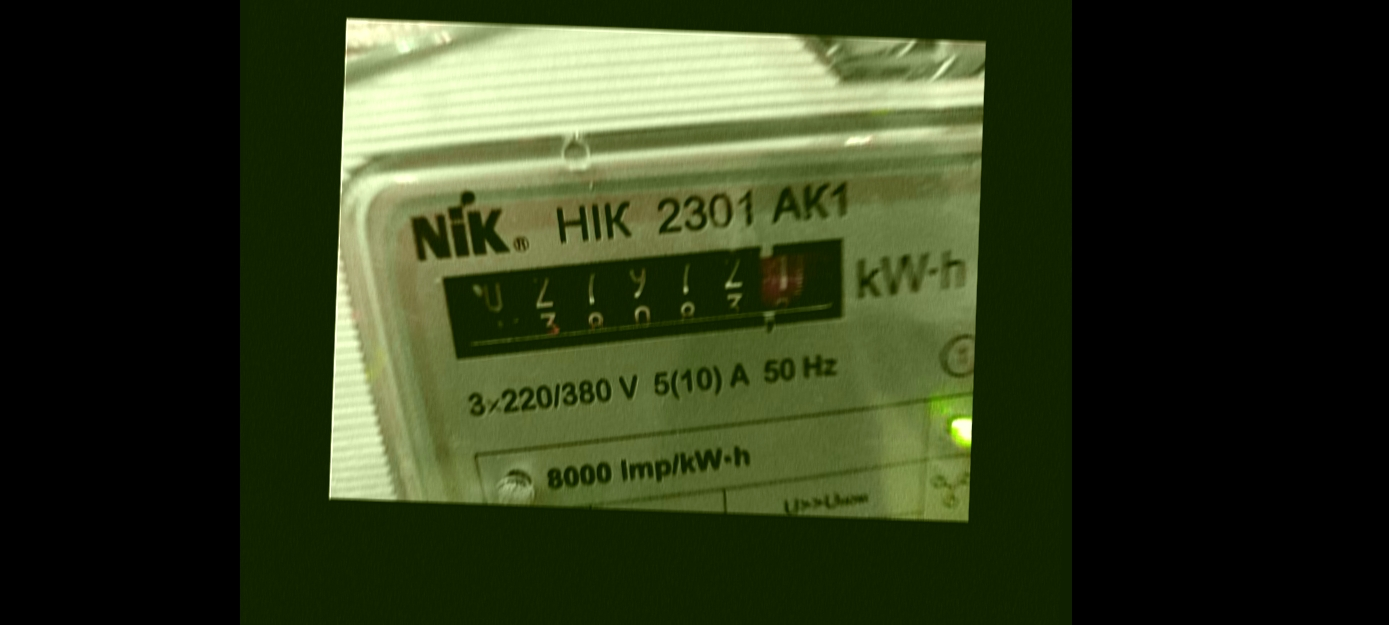0: (477, 276, 506, 313)
1: (771, 250, 794, 294)
2: (526, 269, 556, 309), (717, 252, 746, 290)
7: (670, 255, 697, 297), (576, 268, 601, 306)
9: (623, 263, 651, 299)
screen: (421, 213, 878, 384)
